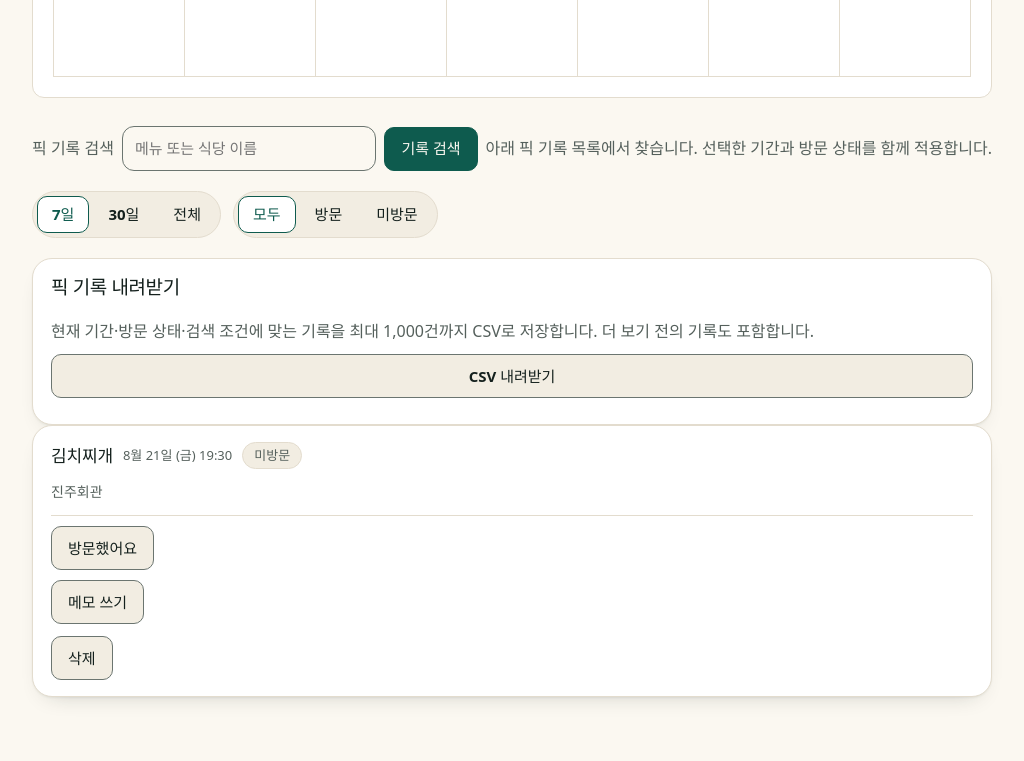
it: 이력의 메뉴 ID로 식당 선택 › 식당 조회 실패 시 방문 처리하지 않고 재시도할 수 있다
The image size is (1024, 761).
(page scrolled)
Click the button with aria-label "김치찌개 방문했어요". click: [102, 548]
box: [51,526,154,570]
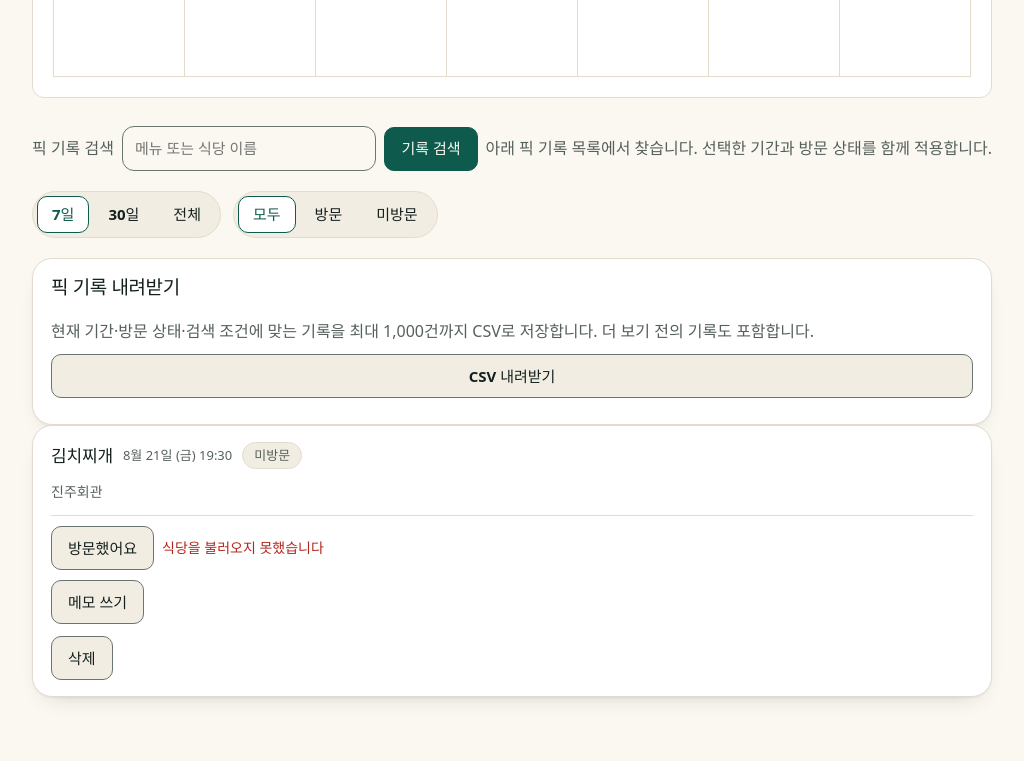
Now the message reads "식당을 불러오지 못했습니다", box [162,538,324,558]
Click the button with aria-label "김치찌개 방문했어요". click: [102, 548]
box: [51,526,154,570]
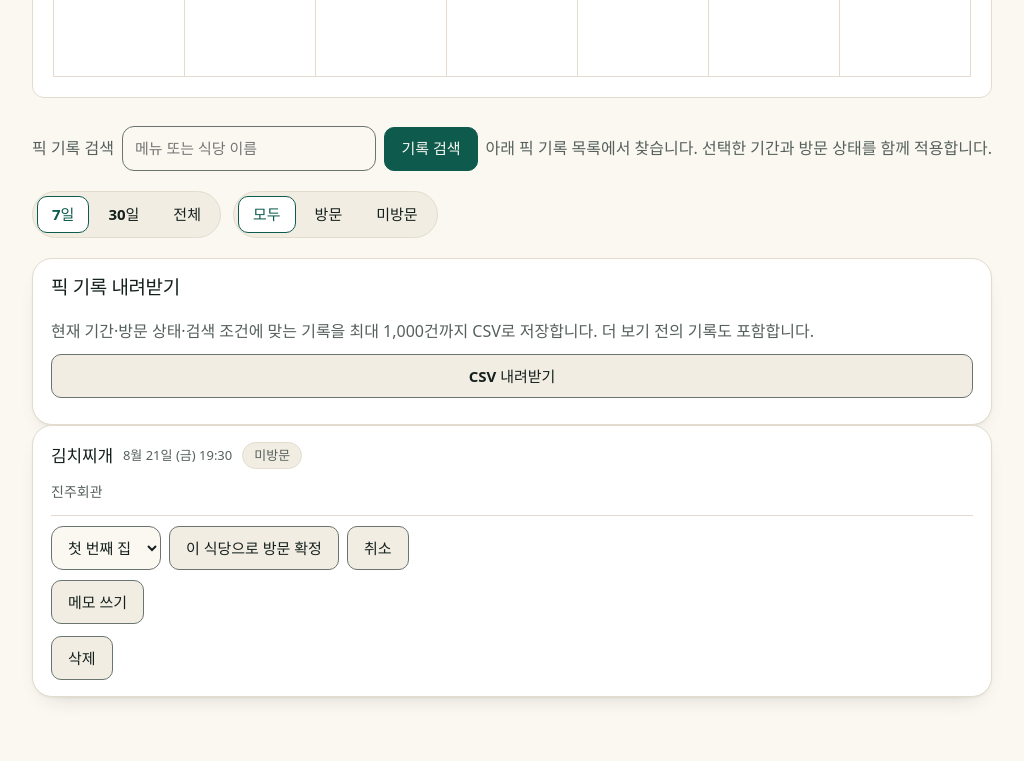
Now the dropdown named "김치찌개 방문 식당 선택" is shown, box [51,526,161,570]
